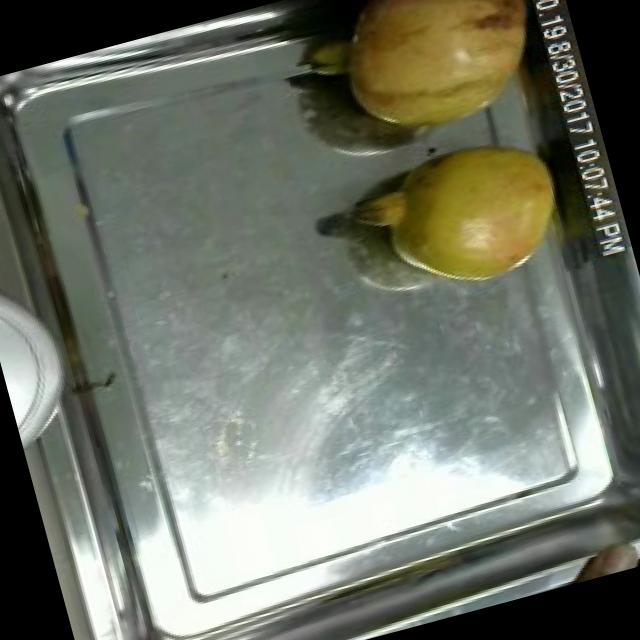fruit: (338, 112, 582, 314), (290, 0, 568, 170), (548, 531, 640, 588)
